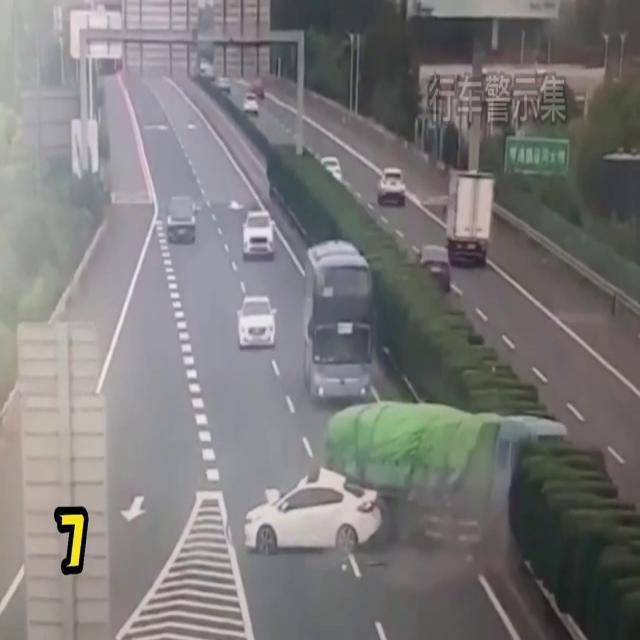accident: (240, 400, 570, 558)
